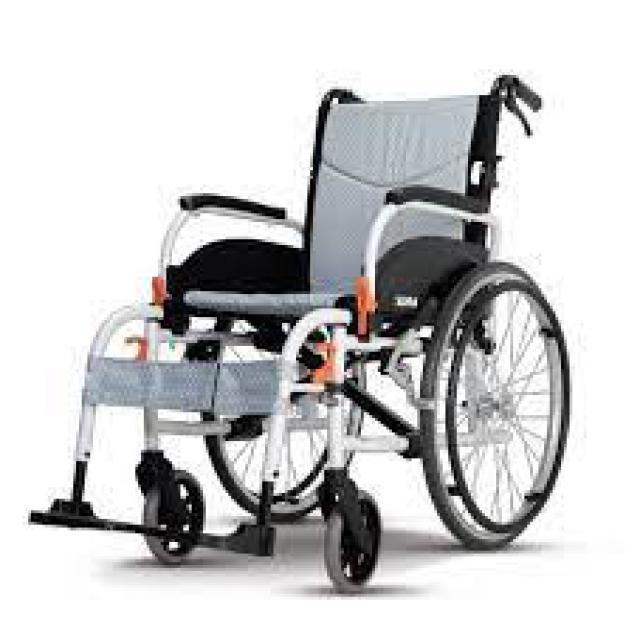wheelchair: (22, 72, 576, 600)
